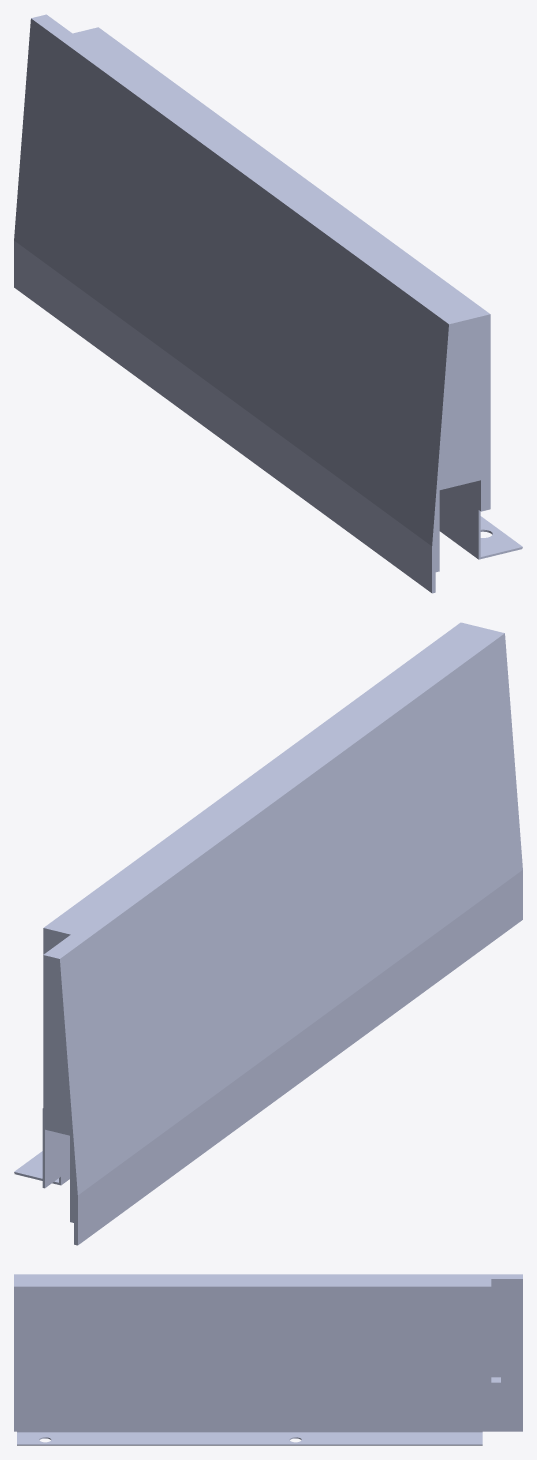
File: mv-kava-M270-p.glb
3 views of the same model, one above another, from view 1: azimuth 30°, elevation 25°; view 2: azimuth 150°, elevation 25°; view 3: azimuth 270°, elevation 25° (orthographic). The views are drawn at different scales.
Parts seen in each view (by area): view 1: 48667075; view 2: 48667075; view 3: 48667075.
Boxes of the visible parts, <box> form: 48667075: <box>14,14,522,593</box>; 48667075: <box>14,622,522,1245</box>; 48667075: <box>14,1274,522,1445</box>.
Bounding box in the file's own units: 0.0335 × 0.091 × 0.2602.
